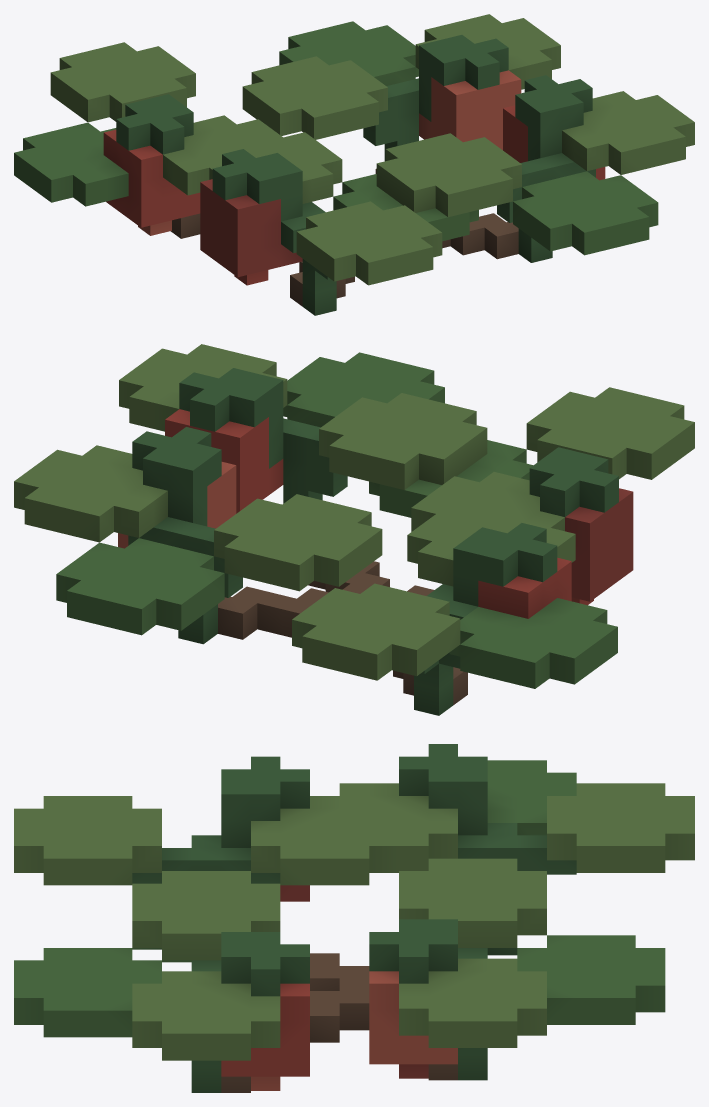
The model's file is wild_strawberry_summer.glb.
3 views of the same model, one above another, from view 1: azimuth 30°, elevation 25°; view 2: azimuth 150°, elevation 25°; view 3: azimuth 270°, elevation 25° (orthographic). The views are drawn at different scales.
Parts seen in each view (by area): view 1: VoxelVisual; view 2: VoxelVisual; view 3: VoxelVisual.
Boxes of the visible parts, x1,y1,x2,y2 form: VoxelVisual: [14, 14, 694, 315]; VoxelVisual: [14, 344, 694, 715]; VoxelVisual: [14, 744, 694, 1092].
Size of what is drawn, in the model's own units: 1.5 by 0.375 by 1.44.
